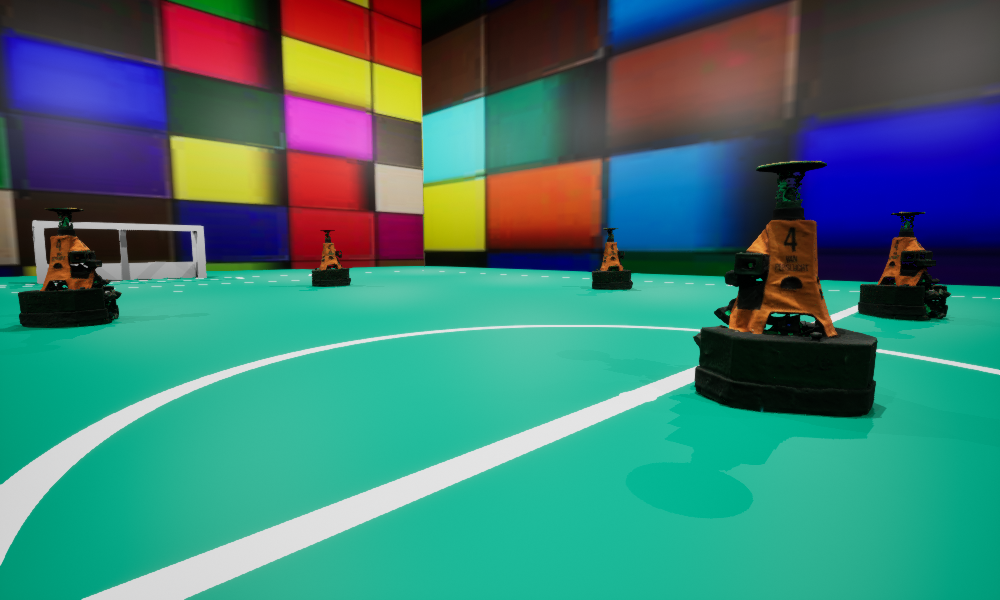0 orange robot TechUnited: (693, 161, 877, 416), (18, 208, 121, 327), (858, 212, 950, 320), (592, 228, 632, 289), (312, 230, 350, 286)
